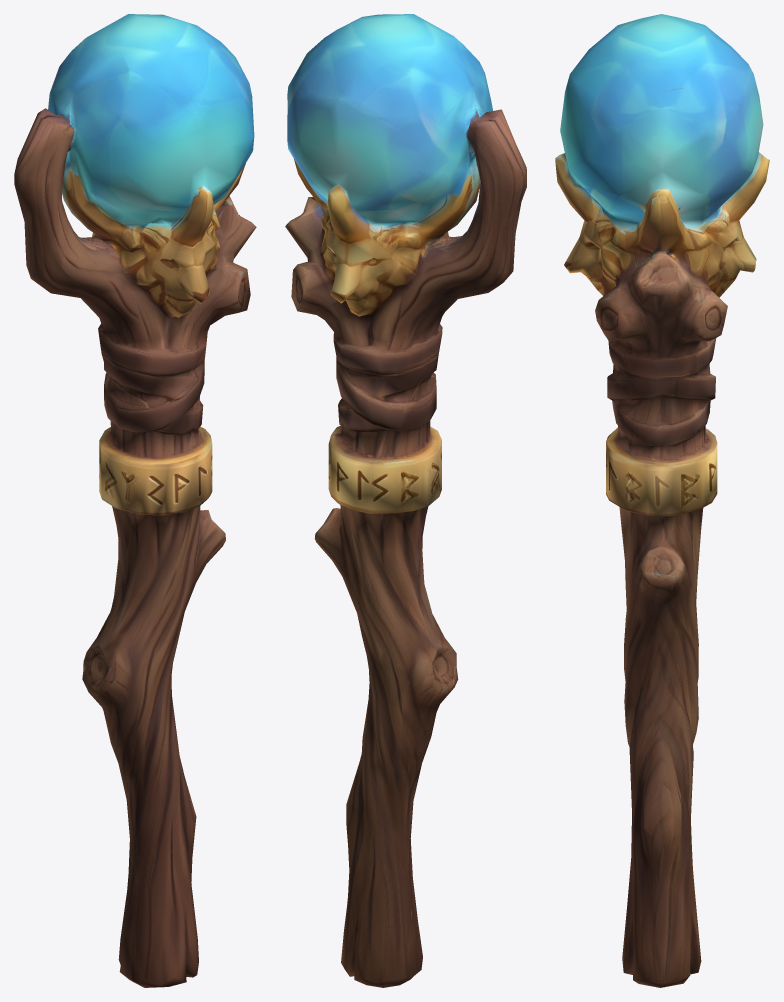
The model's file is Meshy_AI_Azure_Crystal_Lionsta_0324204636_texture.fbx.
The picture shows the model from 3 angles, left to right: view 1: azimuth 30°, elevation 25°; view 2: azimuth 150°, elevation 25°; view 3: azimuth 270°, elevation 25°; orthographic projection.
Visible parts, largest first — view 1: Mesh_0; view 2: Mesh_0; view 3: Mesh_0.
Part boxes in pixels (x1,y1,x2,y2): Mesh_0: (14, 14, 256, 987); Mesh_0: (285, 14, 526, 987); Mesh_0: (555, 14, 769, 987).
Bounding box in the file's own units: 48.91 × 191 × 39.45.
Materials: 1 (1 with a texture image).
